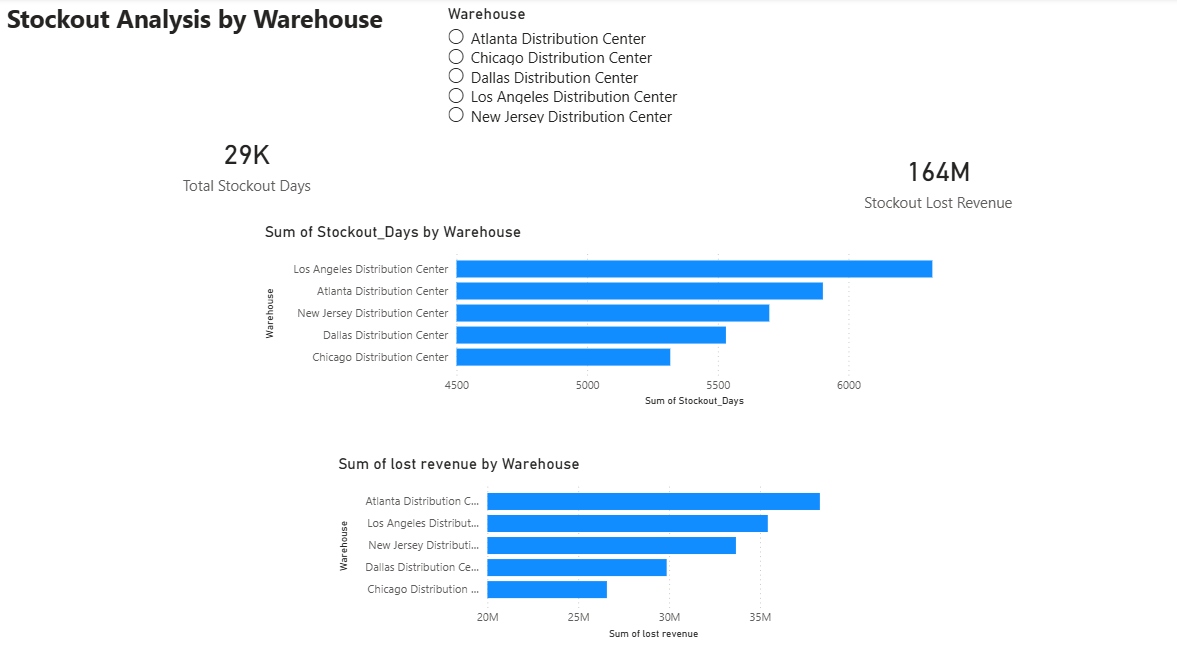

The page's visual inventory and layout, read from the dashboard file:
{"tool":"powerbi","page":{"name":"Stockout Analysis","canvas":[1280,720],"ordinal":2},"visuals":[{"type":"textbox","box":[9.9,0,832.8,49.3],"z":0},{"type":"card","fields":{"Values":["retail inventory_transactions.Total Stockout Days"]},"box":[79.7,94.9,388.7,166.6],"z":1000},{"type":"card","fields":{"Values":["retail inventory_transactions.Stockout Lost Revenue"]},"box":[826.6,112.8,388.7,166.6],"z":2000},{"type":"barChart","fields":{"Category":["Stockout_Data.Warehouse"],"Y":["Sum(Stockout_Data.Stockout_Days)"]},"box":[288.6,243.3,743.5,204.2],"z":3000},{"type":"barChart","fields":{"Category":["Stockout_Data.Warehouse"],"Y":["Sum(Stockout_Data.Column1)"]},"box":[366.8,494,541.7,204.2],"z":4000},{"type":"listSlicer","fields":{"Values":["Stockout_Data.Warehouse"]},"box":[486.5,8.4,269.2,202.3],"z":5000}]}

Visuals, with their boxes in screenshot pixels (x1, y1, x2, y2), scaled from the page's 1280x720 canvas onto the 1177x663 screenshot:
textbox: x1=9 y1=0 x2=775 y2=45
card - retail inventory_transactions.Total Stockout Days: x1=73 y1=87 x2=431 y2=241
card - retail inventory_transactions.Stockout Lost Revenue: x1=760 y1=104 x2=1118 y2=257
barChart - Stockout_Data.Warehouse x Sum(Stockout_Data.Stockout_Days): x1=265 y1=224 x2=949 y2=412
barChart - Stockout_Data.Warehouse x Sum(Stockout_Data.Column1): x1=337 y1=455 x2=835 y2=643
listSlicer - Stockout_Data.Warehouse: x1=447 y1=8 x2=695 y2=194
